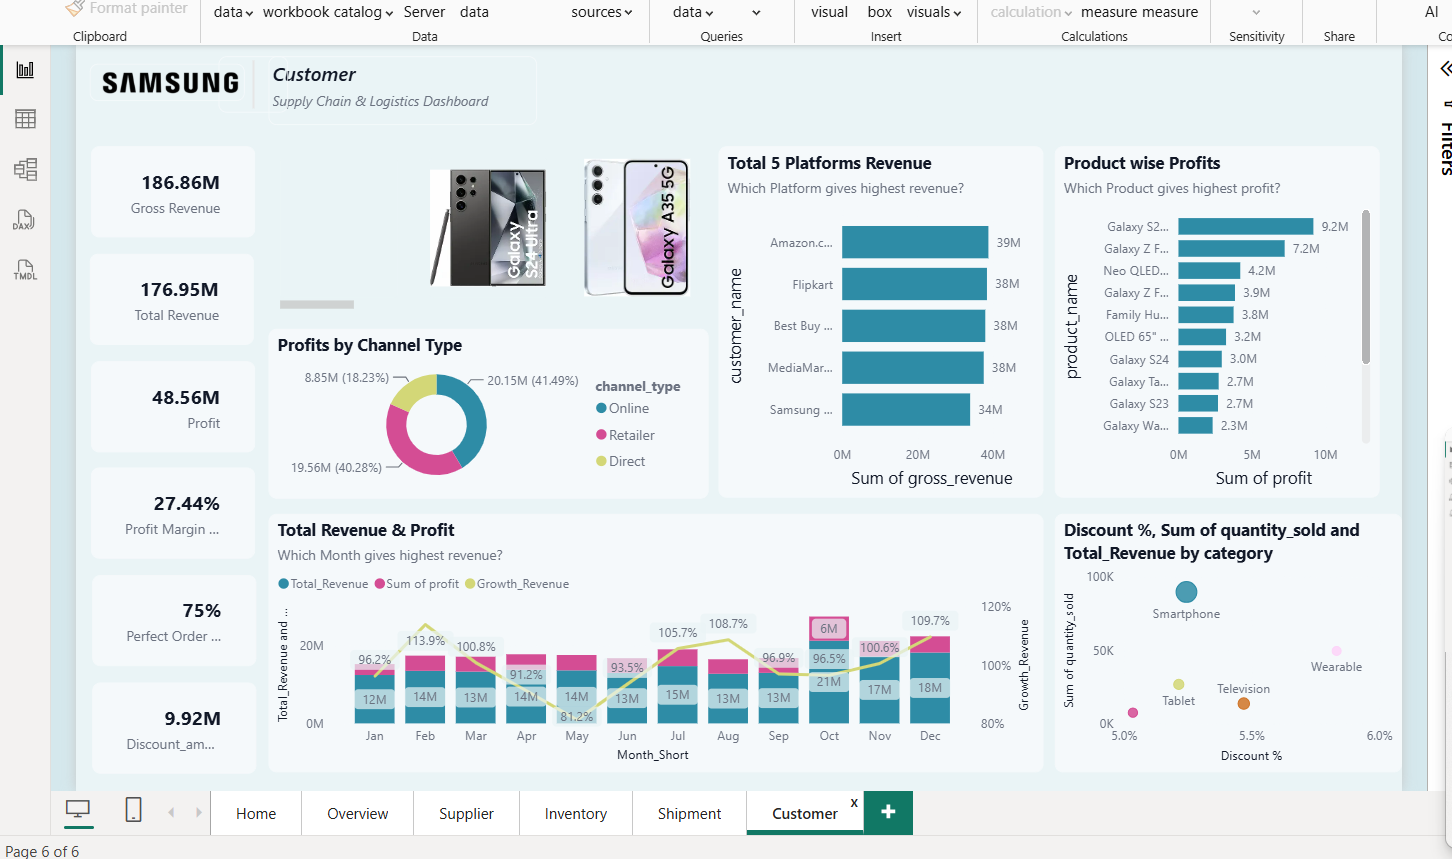

The dashboard page shown, as its layout file describes it:
{"tool":"powerbi","page":{"name":"Customer","canvas":[1280,720],"ordinal":5},"visuals":[{"type":"shape","title":"Customer","box":[185.8,10.9,259.4,66.4],"z":0},{"type":"shape","box":[137.5,10.9,67.6,54.3],"z":1000},{"type":"image","box":[13.3,18.1,149.6,36.2],"z":2000},{"type":"cardVisual","fields":{"Data":["MeasureTable.Total_Revenue"]},"box":[13.3,201.2,158,88.1],"z":3000},{"type":"cardVisual","fields":{"Data":["MeasureTable.Profit"]},"box":[14,304.7,158,88.1],"z":4000},{"type":"cardVisual","fields":{"Data":["MeasureTable.Perfect_Order %"]},"box":[15.4,511.8,158,88.1],"z":5000},{"type":"cardVisual","fields":{"Data":["Sum(fact_sales.discount_amount)"]},"box":[16.2,615.3,158,88.1],"z":6000},{"type":"cardVisual","fields":{"Data":["MeasureTable.Profit Margin %"]},"box":[14.7,408.3,158,88.1],"z":7000},{"type":"cardVisual","fields":{"Data":["Sum(fact_sales.gross_revenue)"]},"box":[14.5,97.7,158,88.1],"z":8000},{"type":"donutChart","title":"Profits by Channel Type","fields":{"Y":["Sum(fact_sales.profit)"],"Category":["dim_customer.channel_type"]},"box":[185.8,273.9,424.7,164.1],"z":9000},{"type":"clusteredBarChart","title":"Total 5 Platforms Revenue","fields":{"Category":["dim_customer.customer_name"],"Y":["Sum(fact_sales.gross_revenue)"]},"box":[620.1,97.7,313.7,339],"z":10000},{"type":"clusteredBarChart","title":"Product wise Profits","fields":{"Category":["dim_product.product_name"],"Y":["Sum(fact_sales.profit)"]},"box":[944.6,97.7,313.7,339],"z":11000},{"type":"lineStackedColumnComboChart","title":"Total Revenue & Profit","fields":{"Category":["dim_date.Month_Short"],"Y":["MeasureTable.Total_Revenue","Sum(fact_sales.profit)"],"Y2":["MeasureTable.Growth_Revenue"]},"box":[185.8,452.4,748,249.7],"z":12000},{"type":"scatterChart","fields":{"X":["MeasureTable.Discount %"],"Series":["dim_product.category"],"Y":["Sum(fact_sales.quantity_sold)"],"Size":["MeasureTable.Total_Revenue"]},"box":[944.6,452.4,335.4,249.7],"z":13000},{"type":"advancedSlicerVisual","fields":{"Values":["dim_product.Img"]},"box":[185.8,97.7,424.7,170.1],"z":14000}]}

Visuals, with their boxes on the page's 1280x720 design canvas (x1, y1, x2, y2). These are canvas units, not pixel positions in the 1452x859 screenshot, which may show the page scaled, cropped or inside an application window:
"Customer" shape: bbox(186, 11, 445, 77)
shape: bbox(138, 11, 205, 65)
image: bbox(13, 18, 163, 54)
cardVisual - MeasureTable.Total_Revenue: bbox(13, 201, 171, 289)
cardVisual - MeasureTable.Profit: bbox(14, 305, 172, 393)
cardVisual - MeasureTable.Perfect_Order %: bbox(15, 512, 173, 600)
cardVisual - Sum(fact_sales.discount_amount): bbox(16, 615, 174, 703)
cardVisual - MeasureTable.Profit Margin %: bbox(15, 408, 173, 496)
cardVisual - Sum(fact_sales.gross_revenue): bbox(14, 98, 172, 186)
"Profits by Channel Type" donutChart: bbox(186, 274, 610, 438)
"Total 5 Platforms Revenue" clusteredBarChart: bbox(620, 98, 934, 437)
"Product wise Profits" clusteredBarChart: bbox(945, 98, 1258, 437)
"Total Revenue & Profit" lineStackedColumnComboChart: bbox(186, 452, 934, 702)
scatterChart - MeasureTable.Discount % x dim_product.category: bbox(945, 452, 1280, 702)
advancedSlicerVisual - dim_product.Img: bbox(186, 98, 610, 268)
